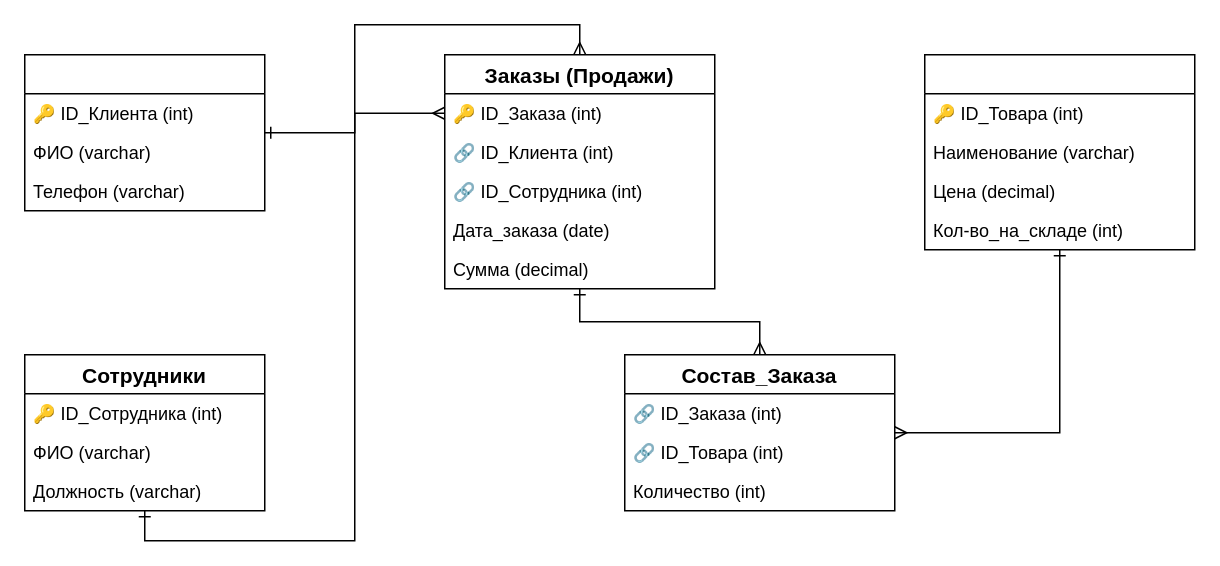
Some shapes in this 1220 by 566 pixel diagram are drawn without their labels. Here are the shapes that lost their labels. From the top down, the box of each, then its label:
(23, 53, 265, 211): Клиенты
(923, 53, 1195, 250): Товары
